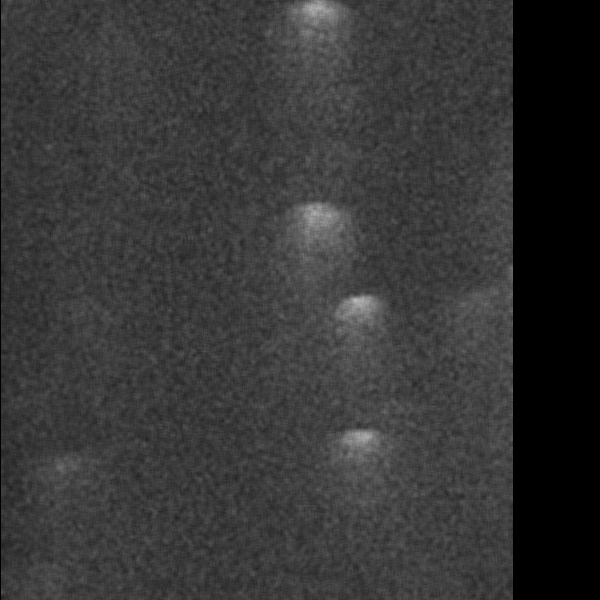spark: (361, 484, 414, 564), (77, 2, 136, 36), (300, 145, 346, 167)
